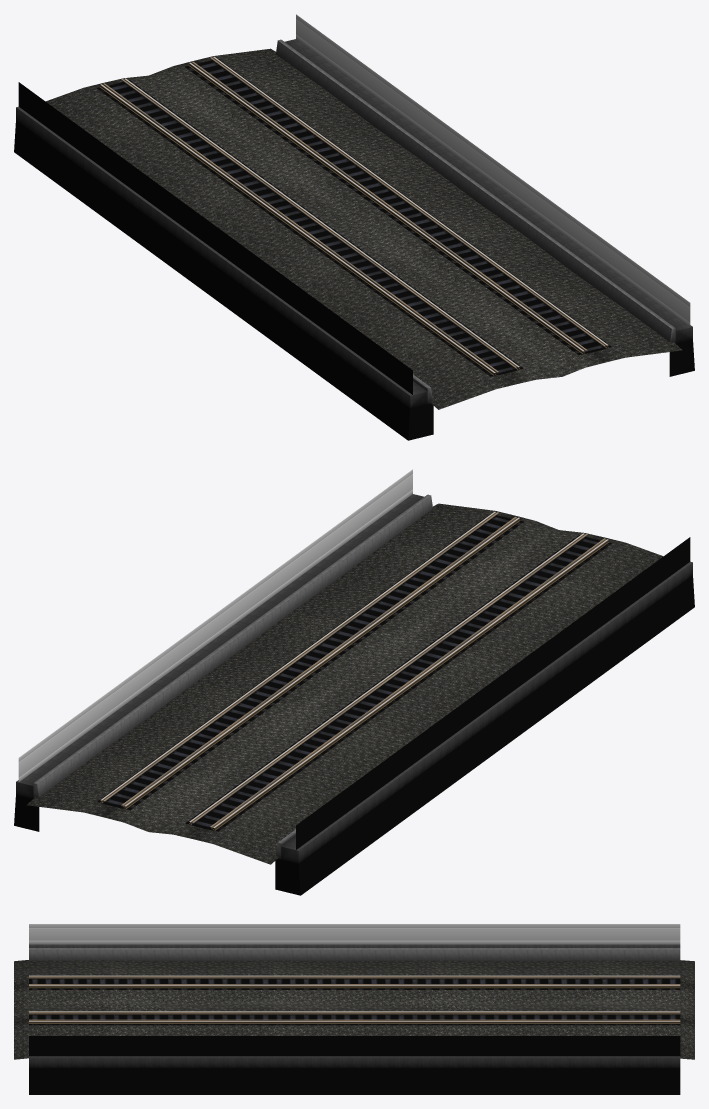
The model's file is TOB_2RAIL_RANKAN0_100.glb.
3 views of the same model, one above another, from view 1: azimuth 30°, elevation 25°; view 2: azimuth 150°, elevation 25°; view 3: azimuth 270°, elevation 25° (orthographic). The views are drawn at different scales.
Visible parts, largest first — view 1: Rail, R000_RG_R, R000_RG_L; view 2: Rail, R000_RG_R, R000_RG_L; view 3: Rail, R000_RG_R, R000_RG_L.
Part boxes in pixels (x1,y1,x2,y2): Rail: [14, 14, 694, 440]; R000_RG_R: [103, 61, 587, 373]; R000_RG_L: [121, 57, 605, 368]; Rail: [14, 469, 694, 895]; R000_RG_R: [121, 516, 605, 828]; R000_RG_L: [103, 512, 587, 823]; Rail: [14, 924, 694, 1094]; R000_RG_R: [29, 976, 680, 1013]; R000_RG_L: [29, 984, 680, 1020].
Size of the model in its own units: 42 by 9.68 by 105.
8 materials, 7 textured.
